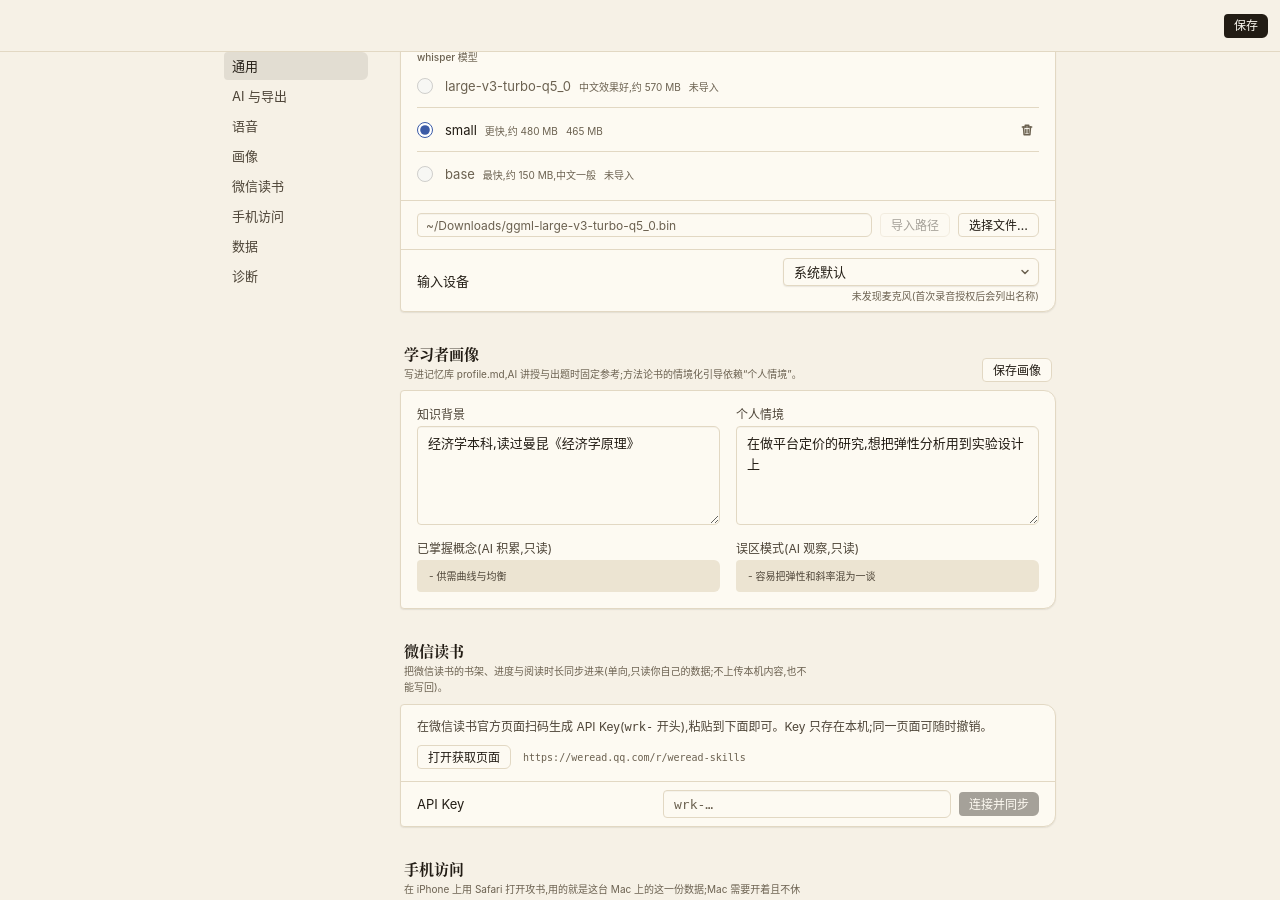
Test case: 设置页 · 学习者画像(M2 T6) › 保存画像只提交画像,不触发 saveSettings,并显示已保存
The image size is (1280, 900).
(page scrolled)
Replace the text in the text box labelled "个人情境" with "准备转做实验经济学". click: (888, 476)
box: [736,426,1039,525]
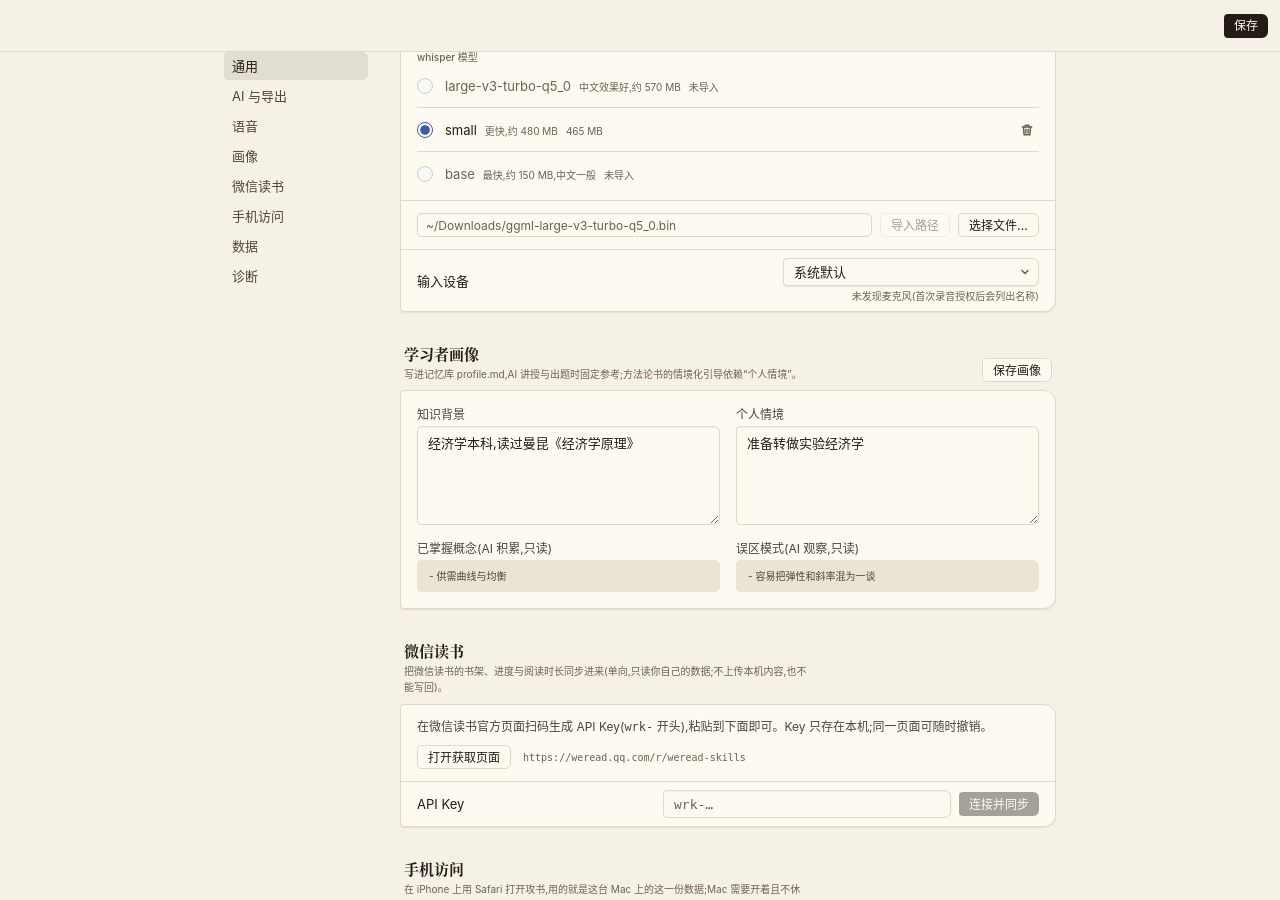
Click the button "保存画像". click: (1017, 370)
box: [982,358,1052,382]
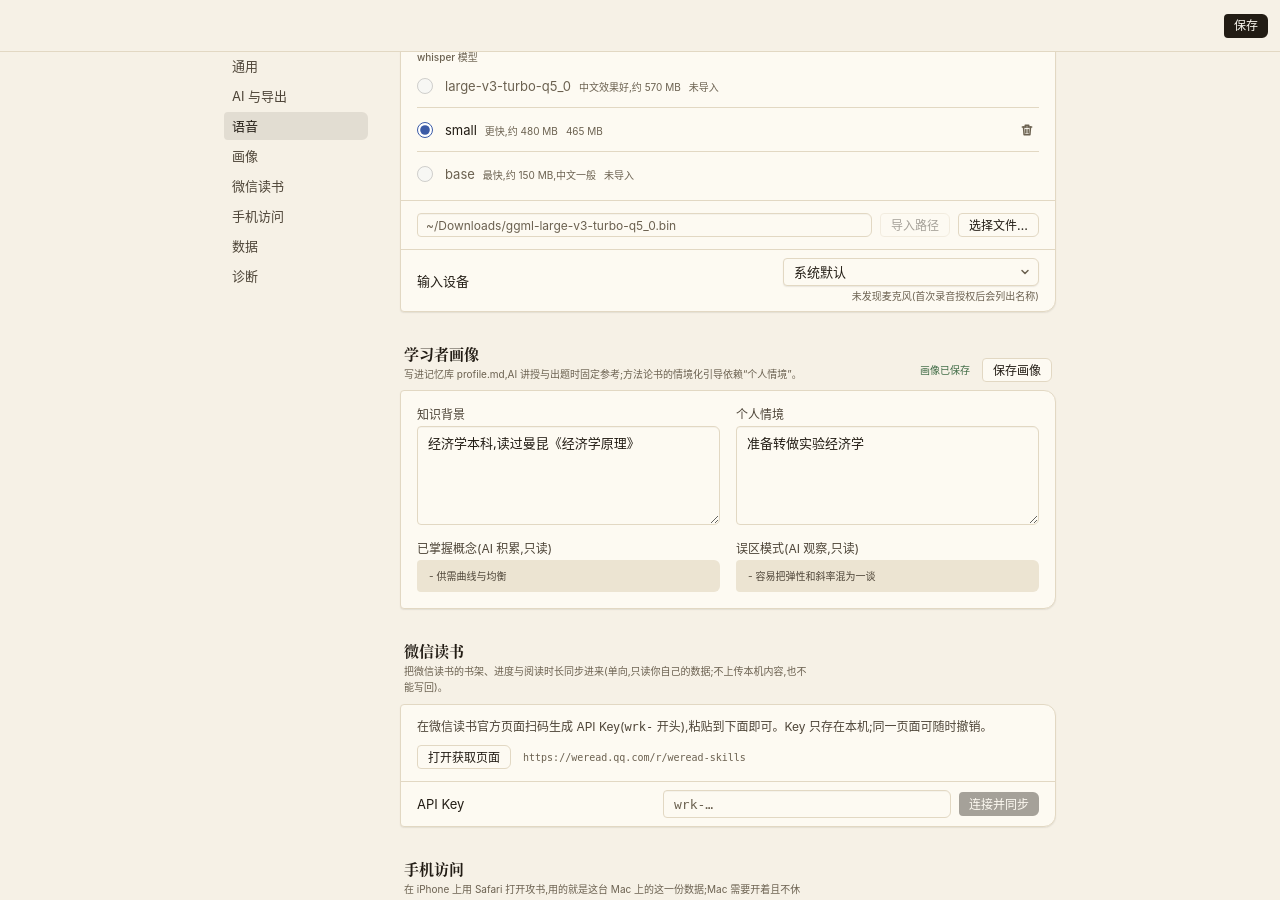
Now the text "画像已保存" is shown, box [920,364,970,377]
